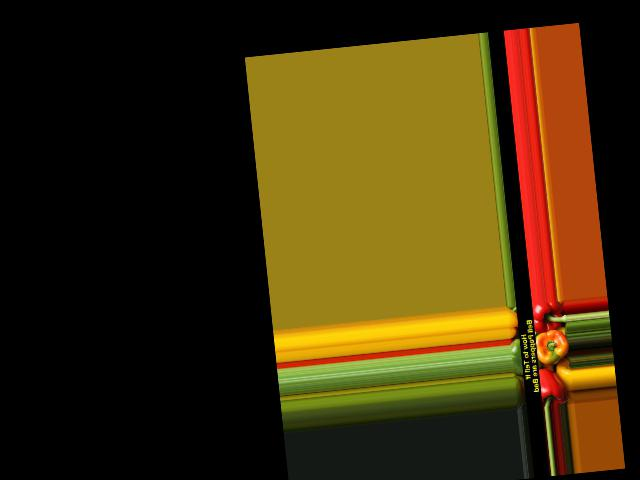bell_pepper: (530, 301, 567, 335)
